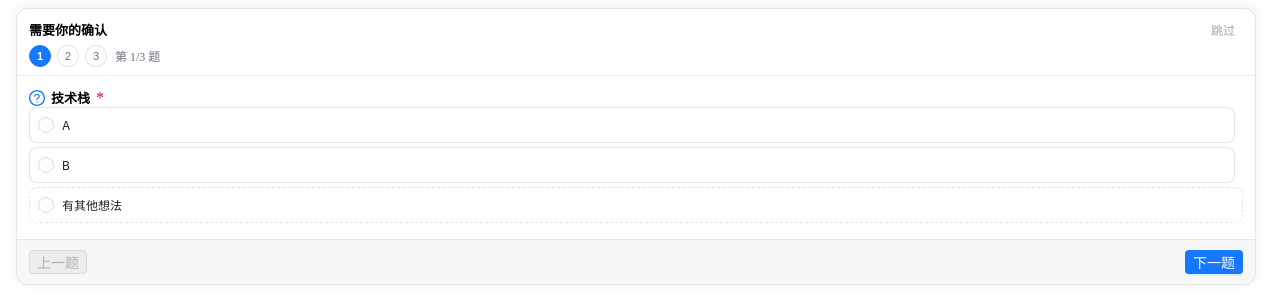
Scenario: ElicitationWizard › 多选题点「下一题」推进；上一题返回且答案保留
What coordinates should you click on to do the following:
click the radio button with test id "elicitation-option-q0-0"
I would click on:
 (46, 125)
Its box is [29,107,1235,143].
Wait 320 ms
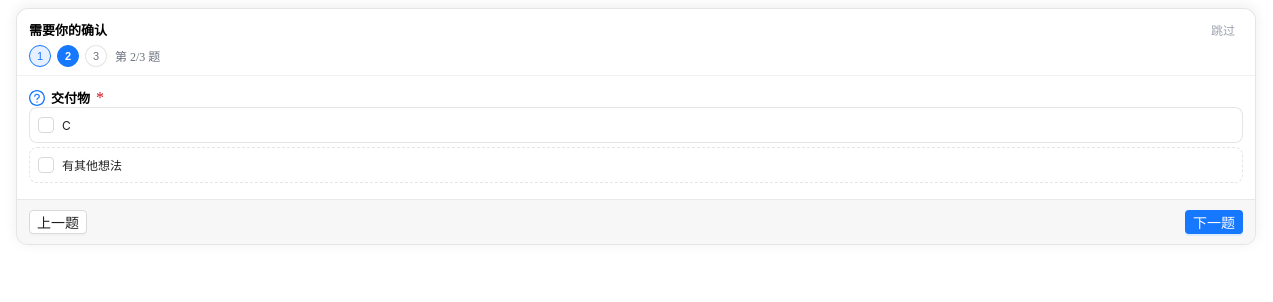
What coordinates should you click on to do the following:
click the checkbox with test id "elicitation-option-q1-0"
I would click on:
 (46, 125)
Its box is [29,107,1243,143].
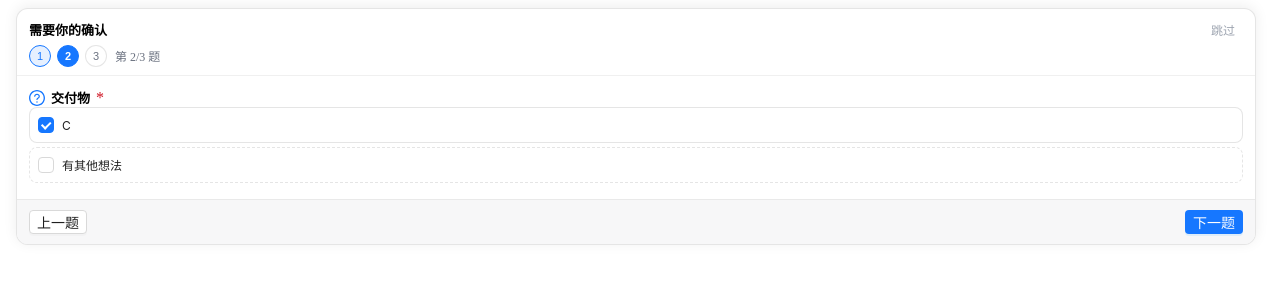
What coordinates should you click on to do the following:
click the button with test id "elicitation-next-r1"
I would click on:
 (1214, 222)
Its box is [1185,210,1243,234].
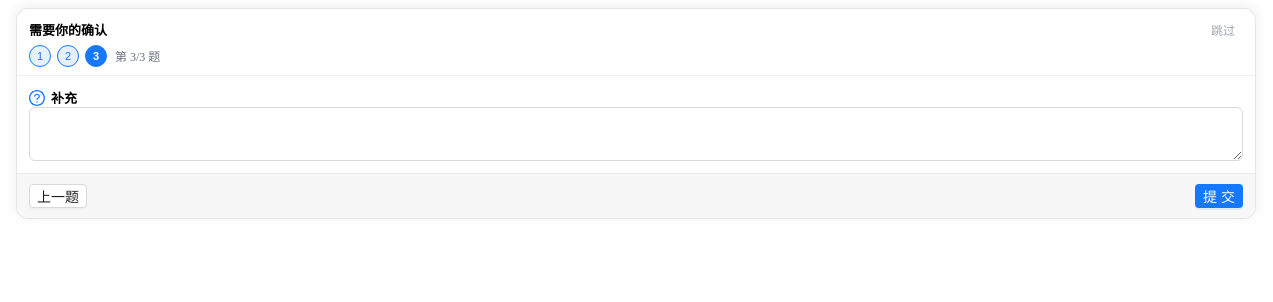
Expected: the text with test id "elicitation-count-r1" reads "第 3/3 题", [115,47,160,65]
What coordinates should you click on to do the following:
click the button with test id "elicitation-prev-r1"
I would click on:
 (58, 196)
Its box is [29,184,87,208].
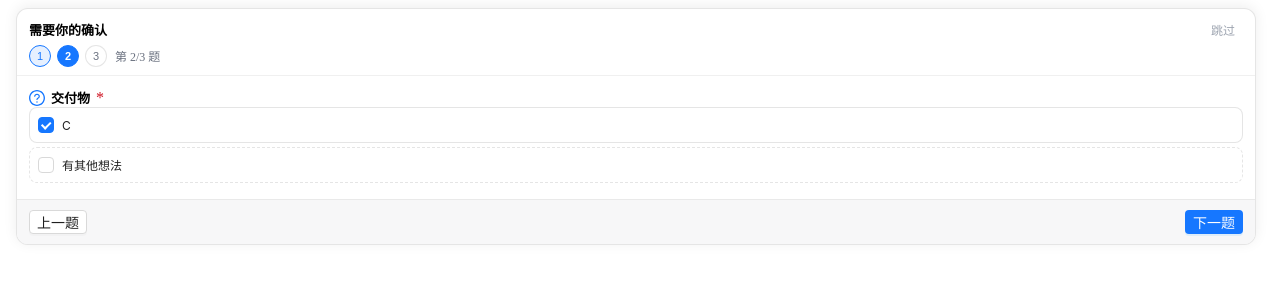
Expected: the text with test id "elicitation-count-r1" reads "第 2/3 题", [115,47,160,65]
Expected: the checkbox with test id "elicitation-option-q1-0" is shown, [29,107,1243,143]
